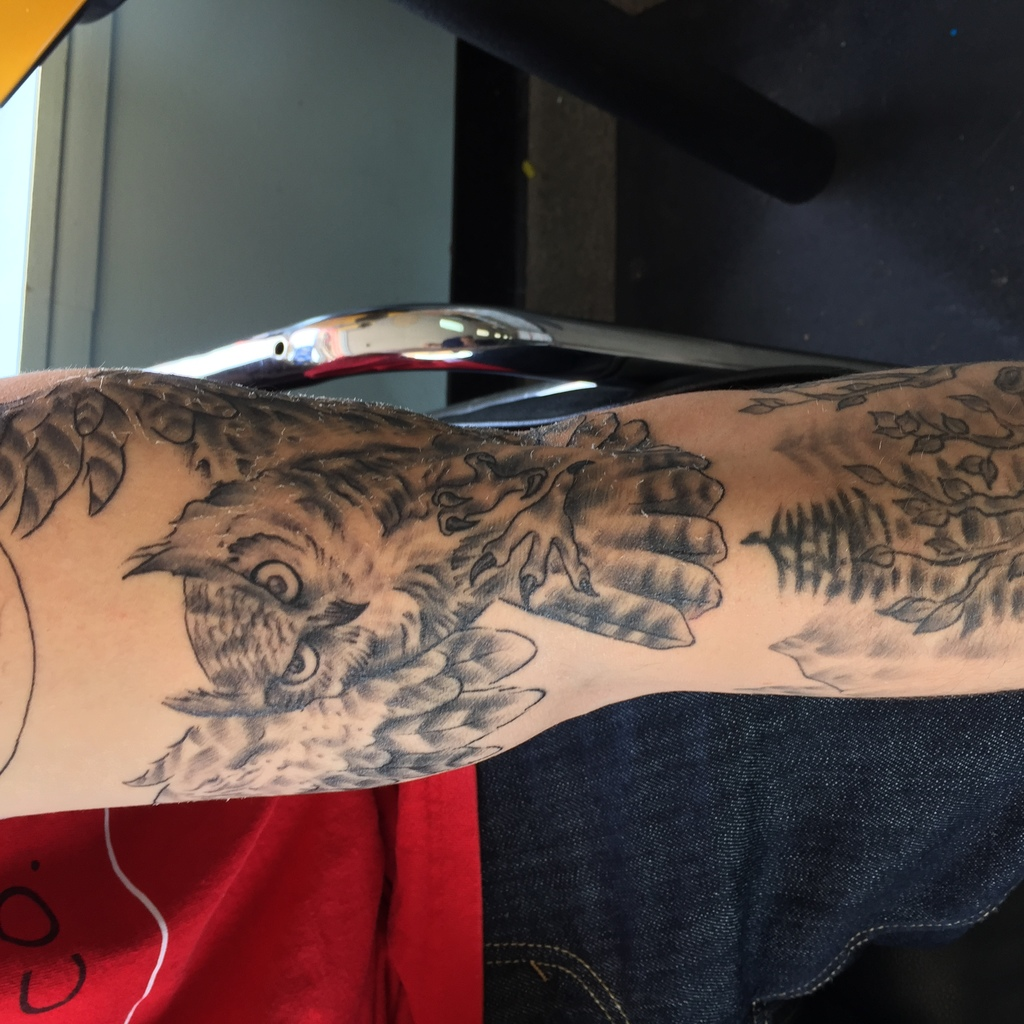Animal: (112, 419, 724, 813)
